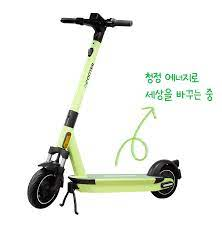kick_body: (78, 173, 150, 190)
kick_handler: (60, 12, 133, 42)
kick_neck: (62, 43, 100, 146)
kick_wheel: (26, 169, 60, 209), (150, 159, 179, 199)
